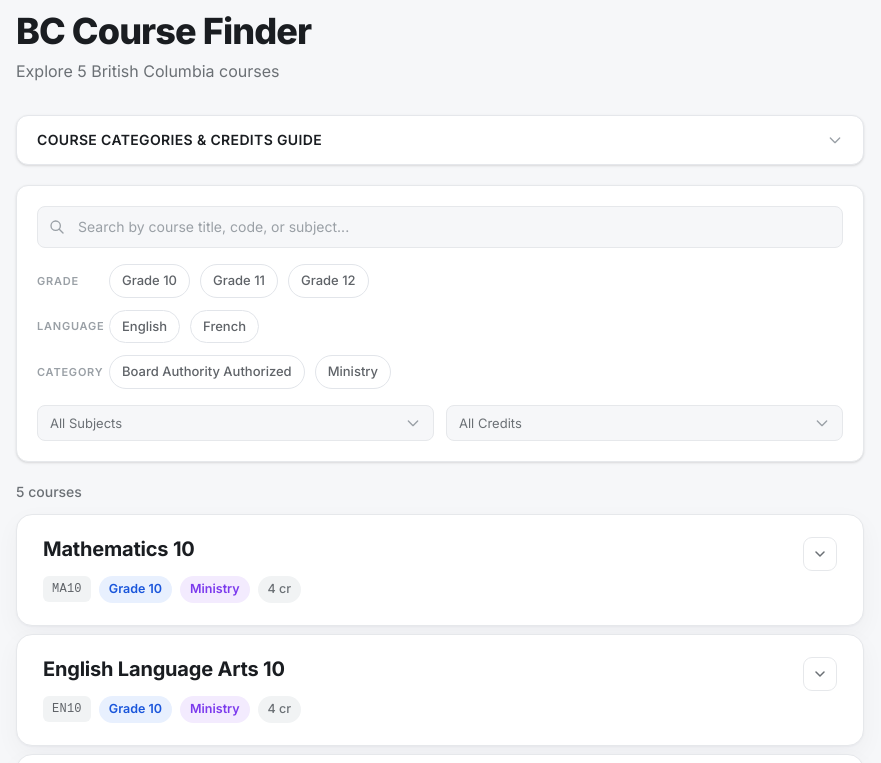
Test: Home page — filtering › filters by language chip
Expected: the text "Mathematics 10" is shown, [43, 537, 195, 561]
Click the button "French". click: (225, 326)
box: [190, 310, 259, 343]
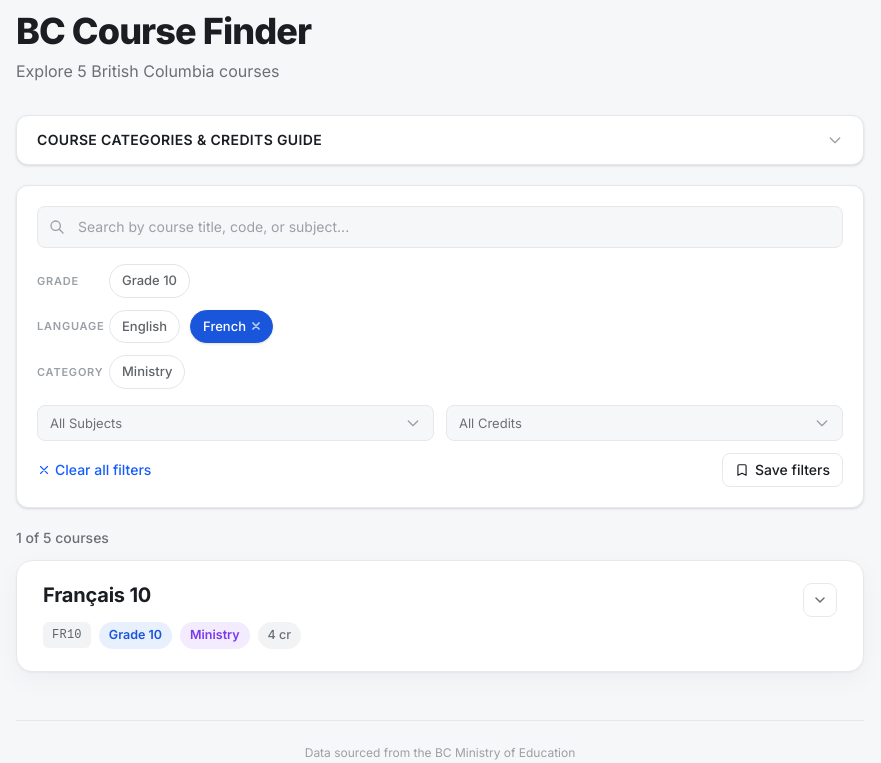
Expected: the text "Français 10" is shown, [43, 583, 151, 607]
Now the text "Mathematics 10" is gone
Now the text "1 of 5 courses" is shown, box [16, 529, 109, 546]
